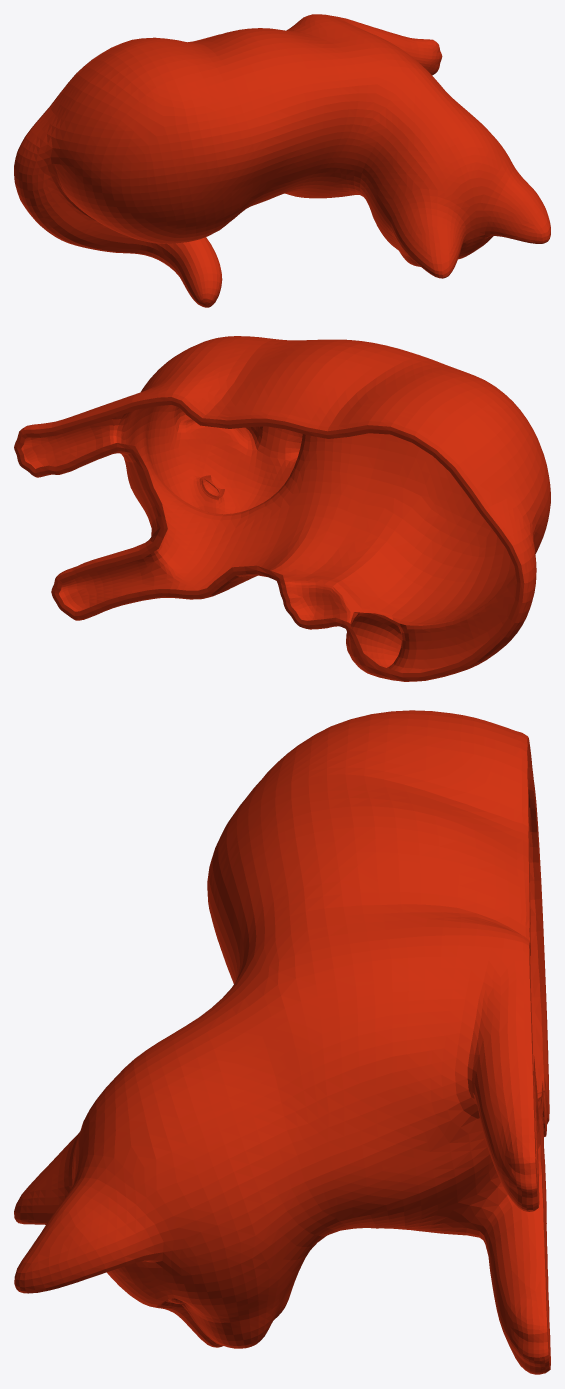
The model's file is cat_v2.obj.
3 views of the same model, one above another, from view 1: azimuth 30°, elevation 25°; view 2: azimuth 150°, elevation 25°; view 3: azimuth 270°, elevation 25° (orthographic). The views are drawn at different scales.
Parts seen in each view (by area): view 1: cat_figure; view 2: cat_figure; view 3: cat_figure.
Boxes of the visible parts, x1,y1,x2,y2 form: cat_figure: (14, 14, 550, 307); cat_figure: (14, 336, 550, 681); cat_figure: (14, 710, 550, 1374).
Size of the model in its own units: 0.2848 by 0.1612 by 0.1727.
